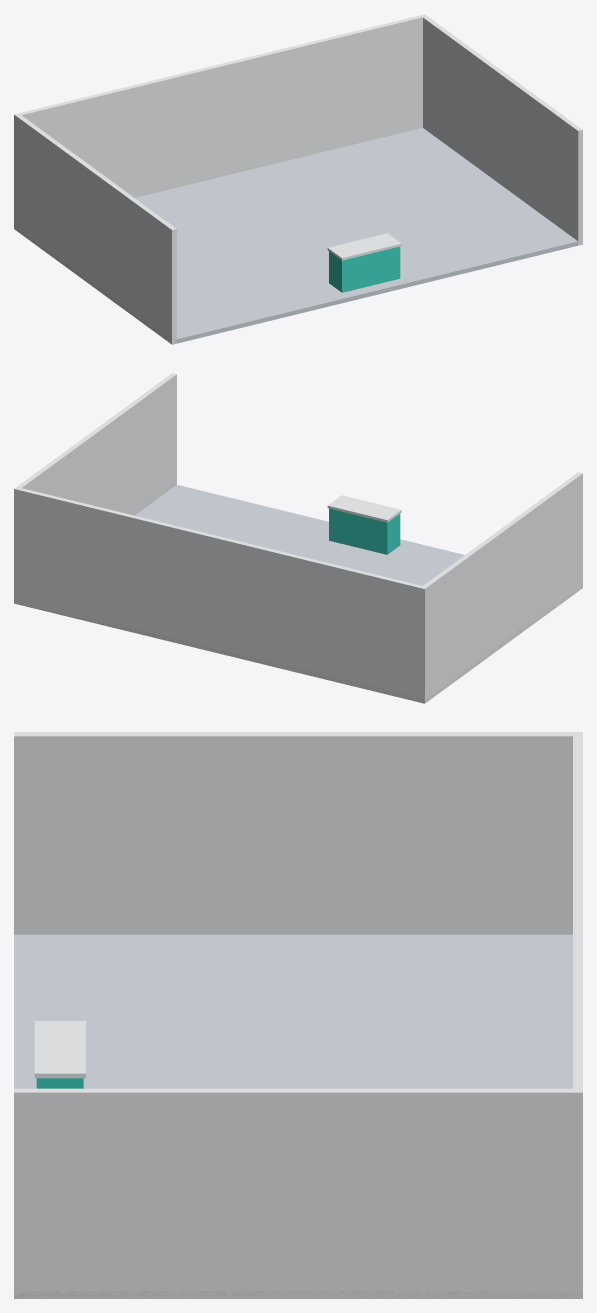
3 views of the same model, one above another, from view 1: azimuth 30°, elevation 25°; view 2: azimuth 150°, elevation 25°; view 3: azimuth 270°, elevation 25° (orthographic). The views are drawn at different scales.
Parts seen in each view (by area): view 1: Exhibition Booth Concept; view 2: Exhibition Booth Concept; view 3: Exhibition Booth Concept.
Part boxes in pixels (left/top/right/bottom): Exhibition Booth Concept: left=14, top=14, right=582, bottom=344; Exhibition Booth Concept: left=14, top=373, right=582, bottom=703; Exhibition Booth Concept: left=14, top=732, right=582, bottom=1298.
Bounding box in the file's own units: 12 × 3.2 × 8.
